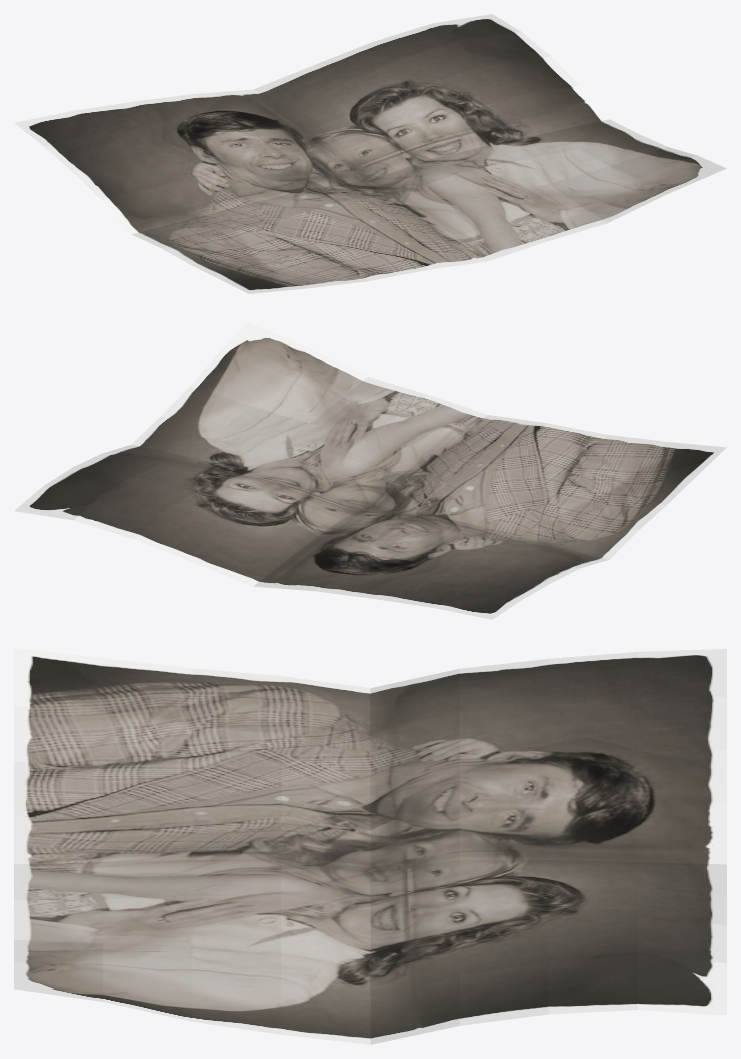
Rendered from famPic.fbx.
3 views of the same model, one above another, from view 1: azimuth 30°, elevation 25°; view 2: azimuth 150°, elevation 25°; view 3: azimuth 270°, elevation 25° (orthographic). The views are drawn at different scales.
Parts seen in each view (by area): view 1: Picture; view 2: Picture; view 3: Picture.
Part boxes in pixels (left/top/right/bottom): Picture: left=14, top=14, right=726, bottom=293; Picture: left=14, top=322, right=726, bottom=619; Picture: left=14, top=648, right=726, bottom=1044.
Bounding box in the file's own units: 20 × 1.57 × 17.
